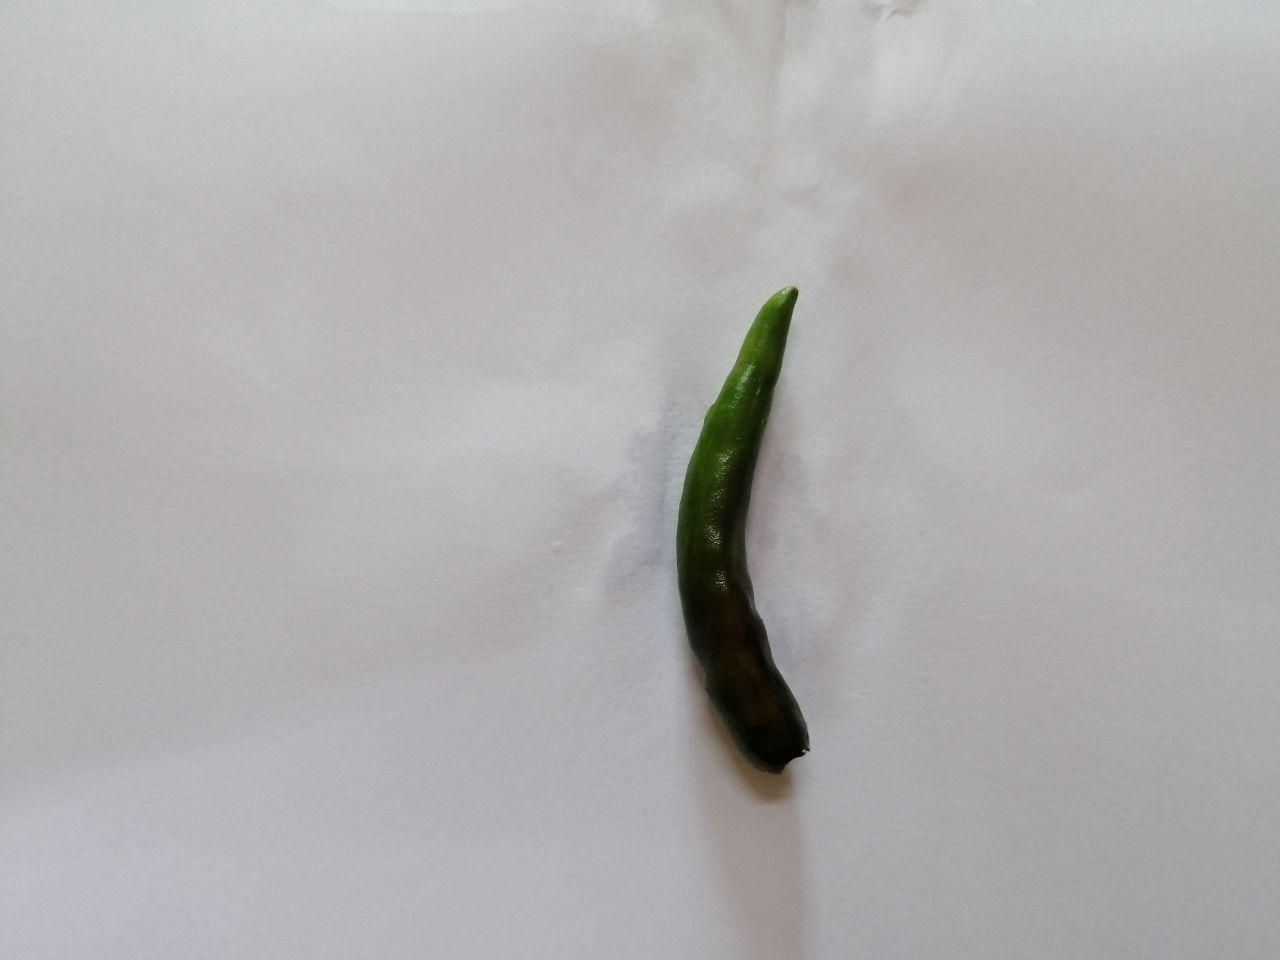lada hijau: (641, 252, 877, 806)
